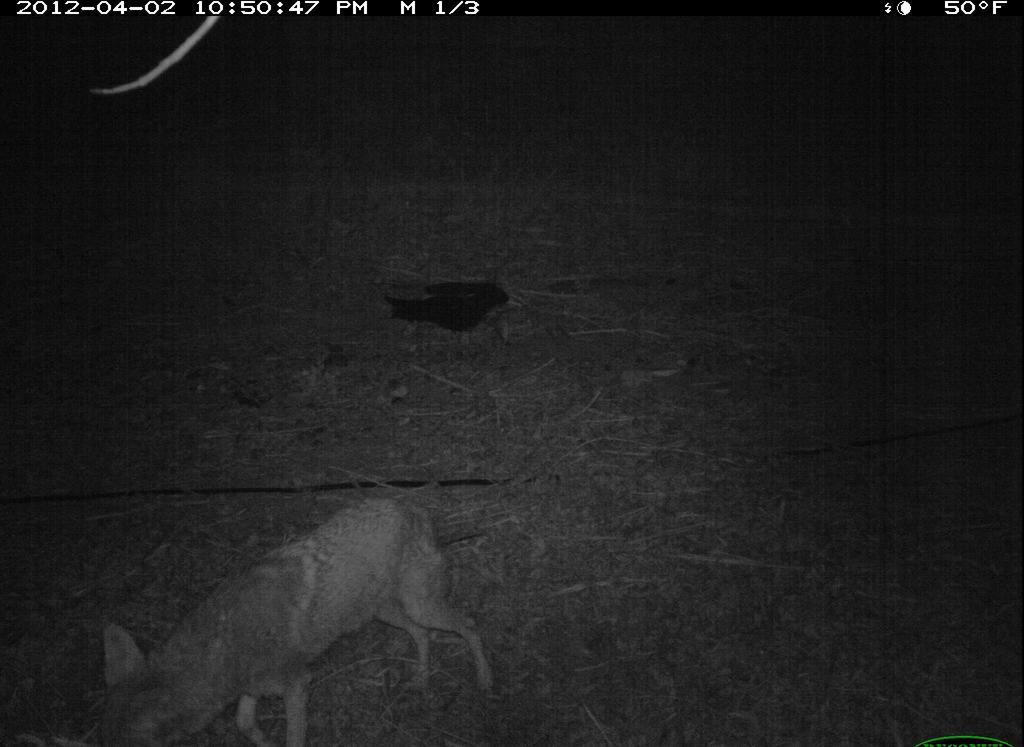coyote: (59, 469, 497, 747)
